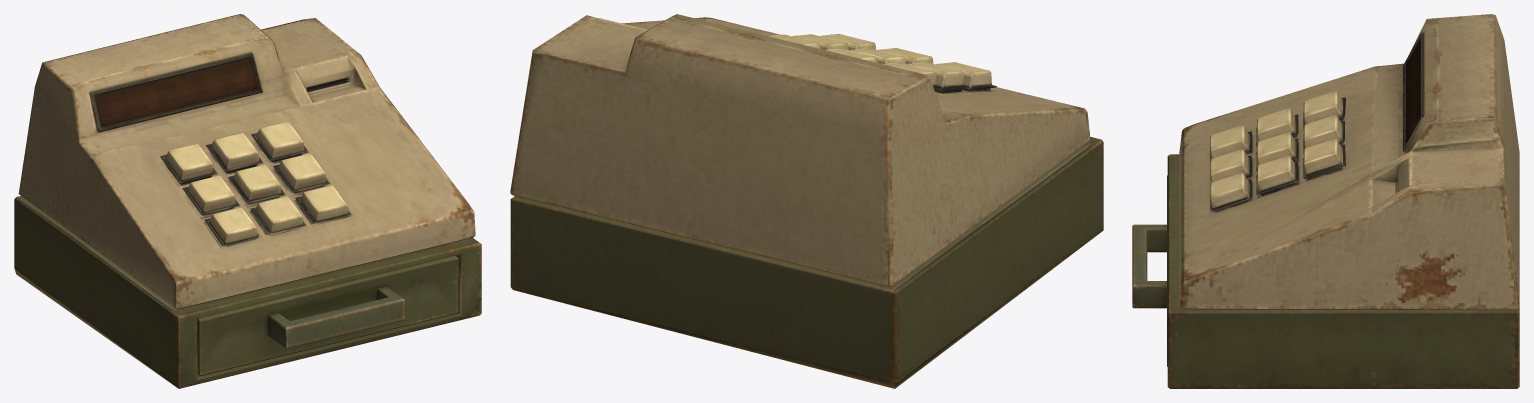
File: P02_register_Runtime_1k.glb
3 views of the same model, side by side, from view 1: azimuth 30°, elevation 25°; view 2: azimuth 150°, elevation 25°; view 3: azimuth 270°, elevation 25° (orthographic). The views are drawn at different scales.
Parts seen in each view (by area): view 1: tripo_379004fc_02de_4e3c_a34a_56298118c91a; view 2: tripo_379004fc_02de_4e3c_a34a_56298118c91a; view 3: tripo_379004fc_02de_4e3c_a34a_56298118c91a.
Boxes of the visible parts, x1=… form: tripo_379004fc_02de_4e3c_a34a_56298118c91a: x1=14, y1=14, x2=481, y2=388; tripo_379004fc_02de_4e3c_a34a_56298118c91a: x1=510, y1=14, x2=1103, y2=388; tripo_379004fc_02de_4e3c_a34a_56298118c91a: x1=1132, y1=14, x2=1519, y2=388.
Size of the model in its own units: 0.42 by 0.2849 by 0.4322.
1 material, 1 textured.
